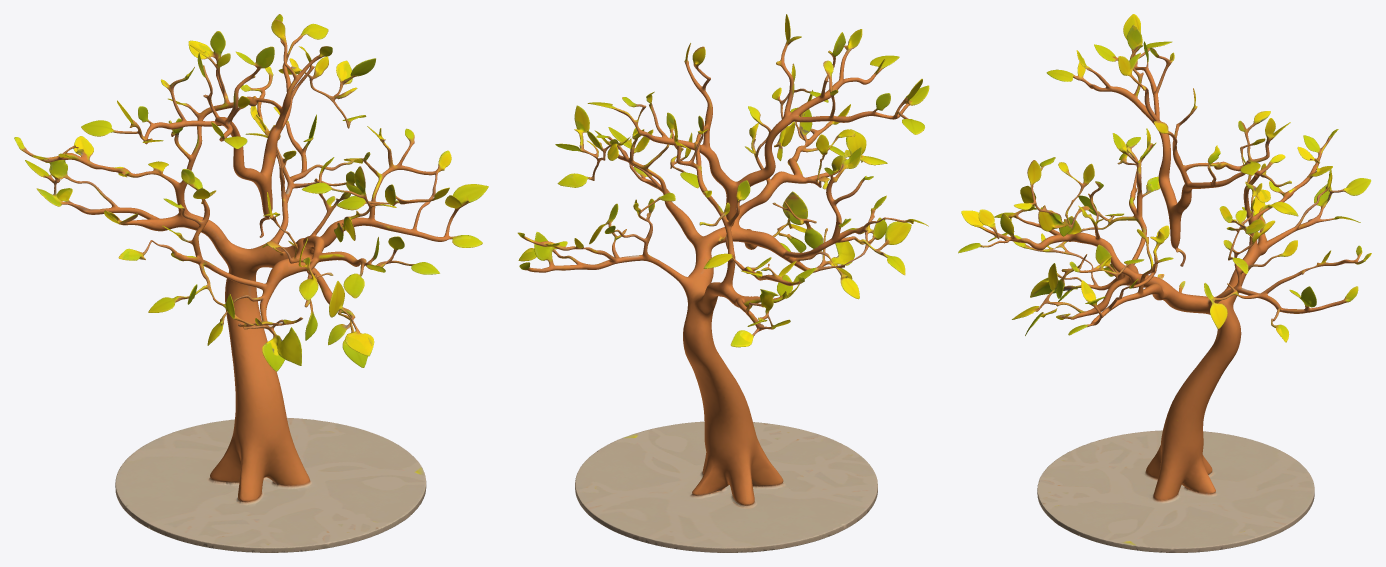
File: transicao_arvore_caatinga.glb
3 views of the same model, side by side, from view 1: azimuth 30°, elevation 25°; view 2: azimuth 150°, elevation 25°; view 3: azimuth 270°, elevation 25° (orthographic). The views are drawn at different scales.
Size of the model in its own units: 1.51 by 1.9 by 1.66.
1 material, 1 textured.
